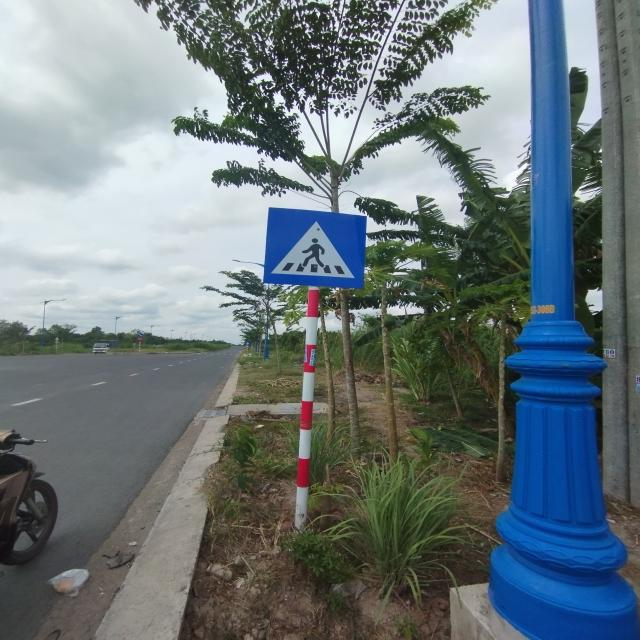Giao_Nhau_Duong_Uu_Tien: (263, 207, 367, 289)
